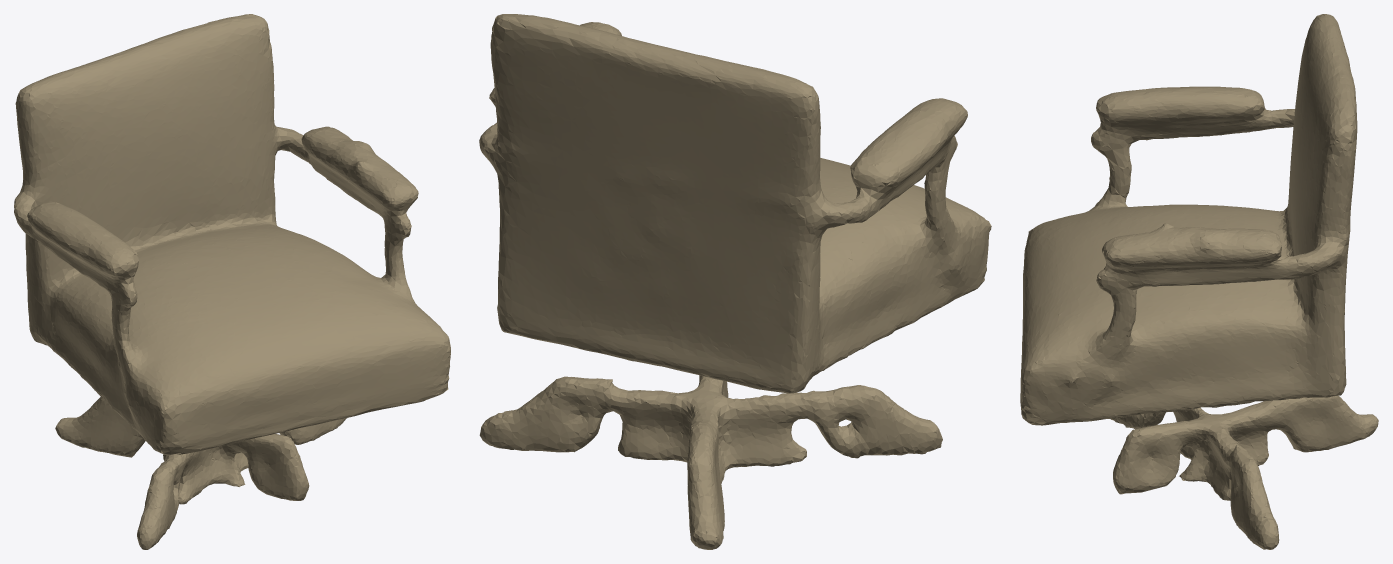
File: triposg_v7.glb
3 renders of one model, left to right at view 1: azimuth 30°, elevation 25°; view 2: azimuth 150°, elevation 25°; view 3: azimuth 270°, elevation 25°, orthographic. The views are drawn at different scales.
Parts seen in each view (by area): view 1: world; view 2: world; view 3: world.
Boxes of the visible parts, <box> form: world: <box>14,14,450,549</box>; world: <box>479,14,991,549</box>; world: <box>1020,14,1378,549</box>.
Bounding box in the file's own units: 1.63 × 1.86 × 1.49.
